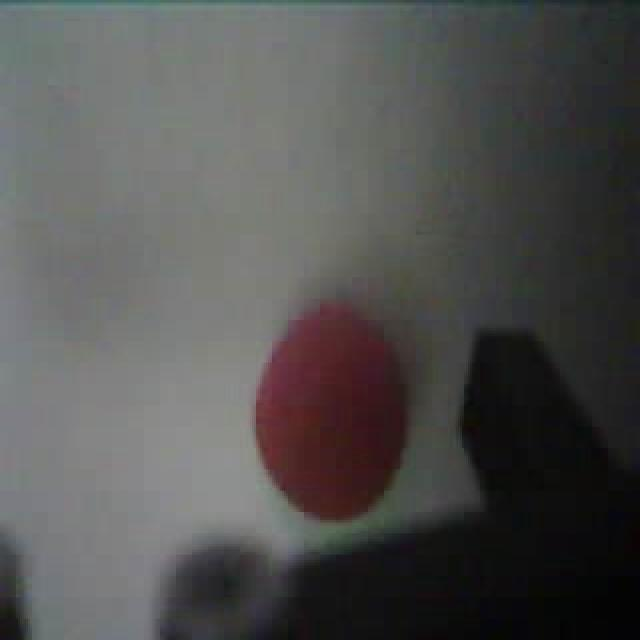red_ball: (250, 294, 412, 526)
